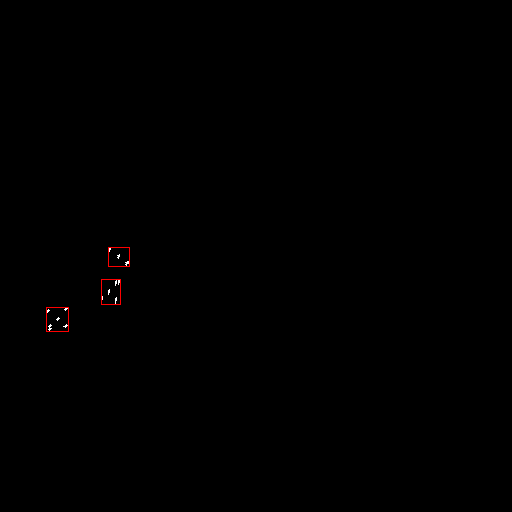Target: (46, 307, 70, 331), (108, 244, 129, 269), (100, 279, 120, 305)
